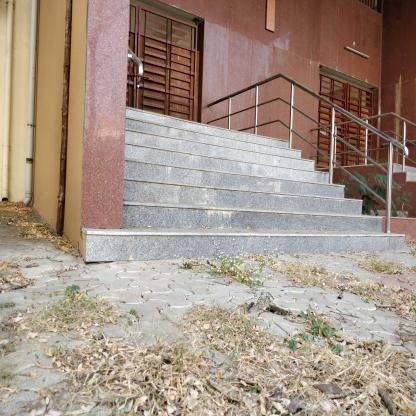stairs: (130, 134, 294, 264)
